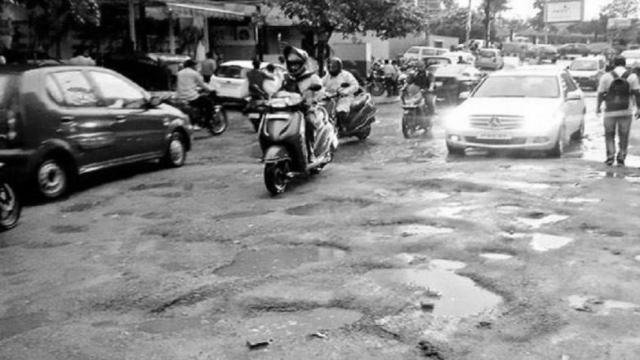Pothole: (389, 244, 506, 340), (212, 228, 348, 290), (1, 284, 74, 360), (504, 192, 584, 260), (256, 298, 368, 338), (396, 166, 480, 214), (134, 300, 226, 340), (282, 194, 386, 222)
